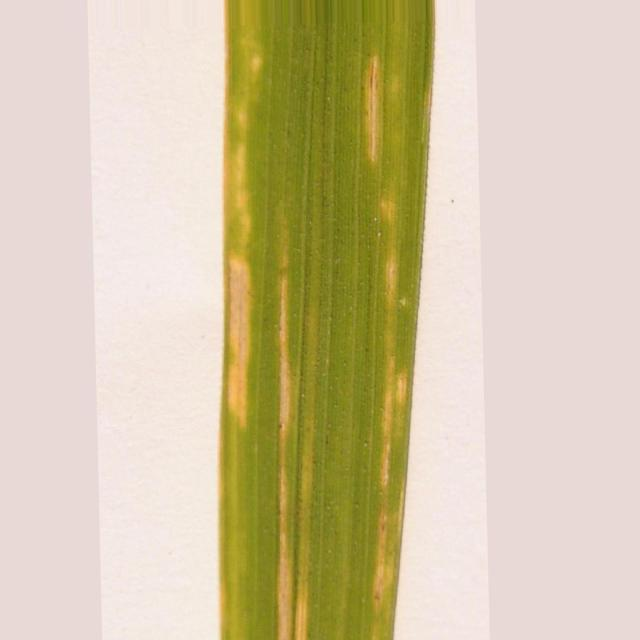Bacterial_Leaf_Blight: (218, 15, 276, 432), (365, 191, 413, 614), (273, 203, 311, 639), (358, 61, 386, 161)
